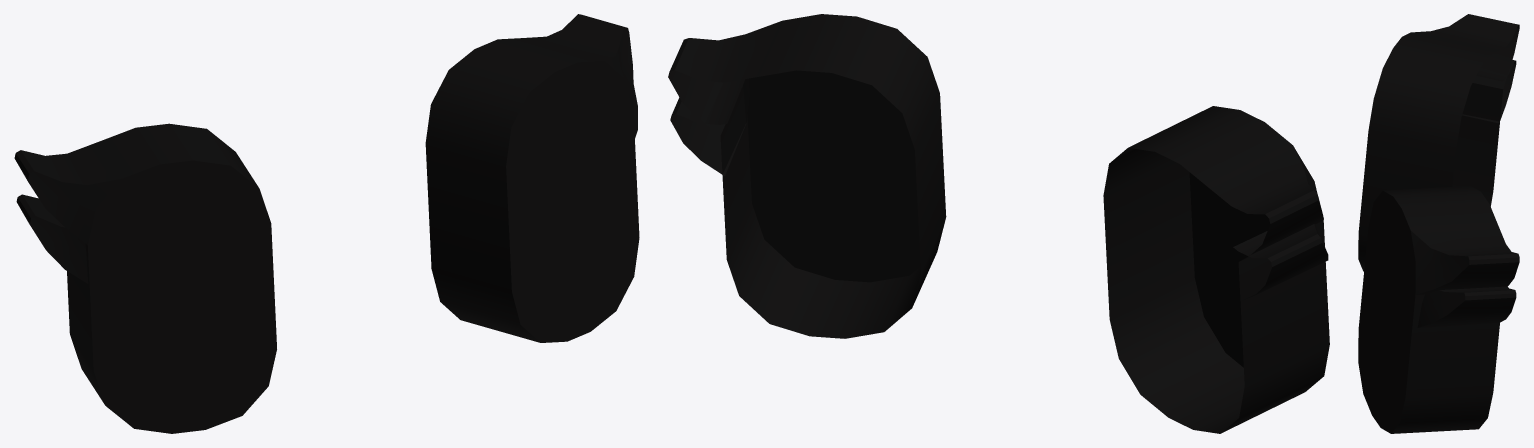
File: Eyes_D_Female_01.fbx
3 renders of one model, left to right at view 1: azimuth 30°, elevation 25°; view 2: azimuth 150°, elevation 25°; view 3: azimuth 270°, elevation 25°, orthographic. The views are drawn at different scales.
Visible parts, largest first — view 1: Eyes_D_Female_01; view 2: Eyes_D_Female_01; view 3: Eyes_D_Female_01.
Boxes of the visible parts, x1,y1,x2,y2 form: Eyes_D_Female_01: (14,14,639,433); Eyes_D_Female_01: (668,14,1329,433); Eyes_D_Female_01: (1358,14,1519,433).
Bounding box in the file's own units: 60.76 × 25.97 × 16.75.
